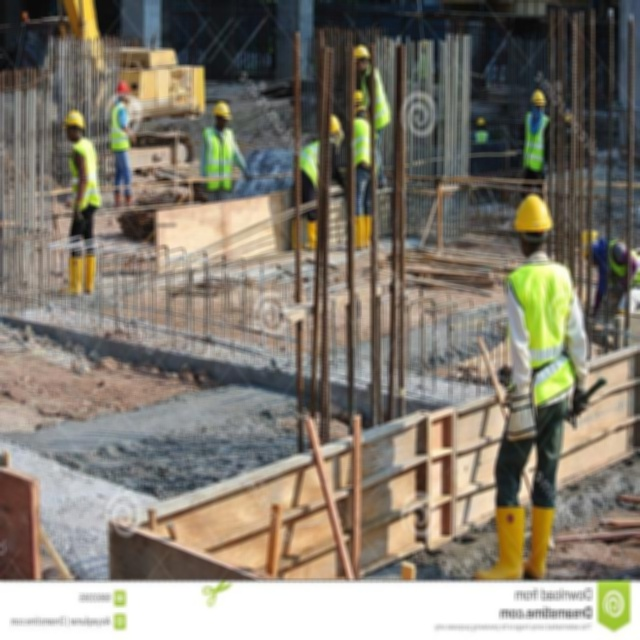Con_Casco: (515, 194, 557, 251)
Con_Chaleco: (505, 264, 573, 408), (68, 137, 98, 210), (203, 127, 235, 189), (521, 110, 550, 170), (363, 69, 390, 127), (109, 101, 133, 148), (353, 120, 374, 170), (301, 141, 319, 187)
